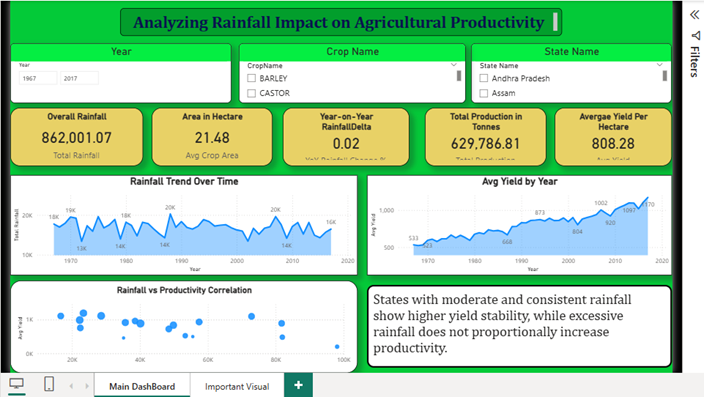

This screenshot's page, from the dashboard's own definition file:
{"tool":"powerbi","page":{"name":"Main DashBoard","canvas":[1280,720],"ordinal":0},"visuals":[{"type":"textbox","box":[212.6,14.2,854.6,53.9],"z":0},{"type":"slicer","title":"State Name","fields":{"Values":["DimState.State Name"]},"box":[891.5,82.2,388.3,116.2],"z":1000},{"type":"slicer","title":"Year","fields":{"Values":["DimDate.Year"]},"box":[0,82.2,428,116.2],"z":2000},{"type":"slicer","title":"Crop Name","fields":{"Values":["Crop.CropName"]},"box":[442.2,82.2,439.4,116.2],"z":3000},{"type":"card","title":"Overall Rainfall","fields":{"Values":["All_Measure.Total Rainfall"]},"box":[0,207.4,256.5,113.4],"z":4000},{"type":"card","title":"Total Production in Tonnes","fields":{"Values":["All_Measure.Total Production"]},"box":[802.2,207.4,235.3,113.4],"z":5000},{"type":"card","title":" Area in Hectare","fields":{"Values":["All_Measure.Avg Crop Area"]},"box":[273.5,207.4,233.9,113.4],"z":6000},{"type":"card","title":"Avergae Yield Per Hectare","fields":{"Values":["All_Measure.Avg Yield"]},"box":[1053.1,207.4,226.8,113.4],"z":7000},{"type":"card","title":"Year-on-Year RainfallDelta","fields":{"Values":["All_Measure.YoY Rainfall Change %"]},"box":[527.2,207.4,245.2,113.4],"z":8000},{"type":"lineChart","title":"Rainfall Trend Over Time","fields":{"Category":["DimDate.Year"],"Y":["All_Measure.Total Rainfall"]},"box":[0,337,671.8,194.2],"z":9000},{"type":"lineChart","fields":{"Category":["DimDate.Year"],"Y":["All_Measure.Avg Yield"]},"box":[690.2,337,589.6,194.2],"z":9001},{"type":"scatterChart","title":"Rainfall vs Productivity Correlation","fields":{"X":["All_Measure.Total Rainfall"],"Y":["All_Measure.Avg Yield"],"Category":["DimState.State Name"],"Size":["All_Measure.Total Crop Area"]},"box":[0,541,672,179],"z":9002},{"type":"textbox","box":[690.2,549.9,589.6,160.2],"z":9003}]}

Visuals, with their boxes in screenshot pixels (x1, y1, x2, y2):
textbox: [left=120, top=4, right=567, bottom=32]
"State Name" slicer: [left=476, top=39, right=679, bottom=100]
"Year" slicer: [left=9, top=39, right=233, bottom=100]
"Crop Name" slicer: [left=241, top=39, right=470, bottom=100]
"Overall Rainfall" card: [left=9, top=105, right=143, bottom=164]
"Total Production in Tonnes" card: [left=429, top=105, right=552, bottom=164]
" Area in Hectare" card: [left=152, top=105, right=275, bottom=164]
"Avergae Yield Per Hectare" card: [left=560, top=105, right=679, bottom=164]
"Year-on-Year RainfallDelta" card: [left=285, top=105, right=413, bottom=164]
"Rainfall Trend Over Time" lineChart: [left=9, top=173, right=361, bottom=274]
lineChart - DimDate.Year x All_Measure.Avg Yield: [left=370, top=173, right=679, bottom=274]
"Rainfall vs Productivity Correlation" scatterChart: [left=9, top=279, right=361, bottom=373]
textbox: [left=370, top=284, right=679, bottom=368]
